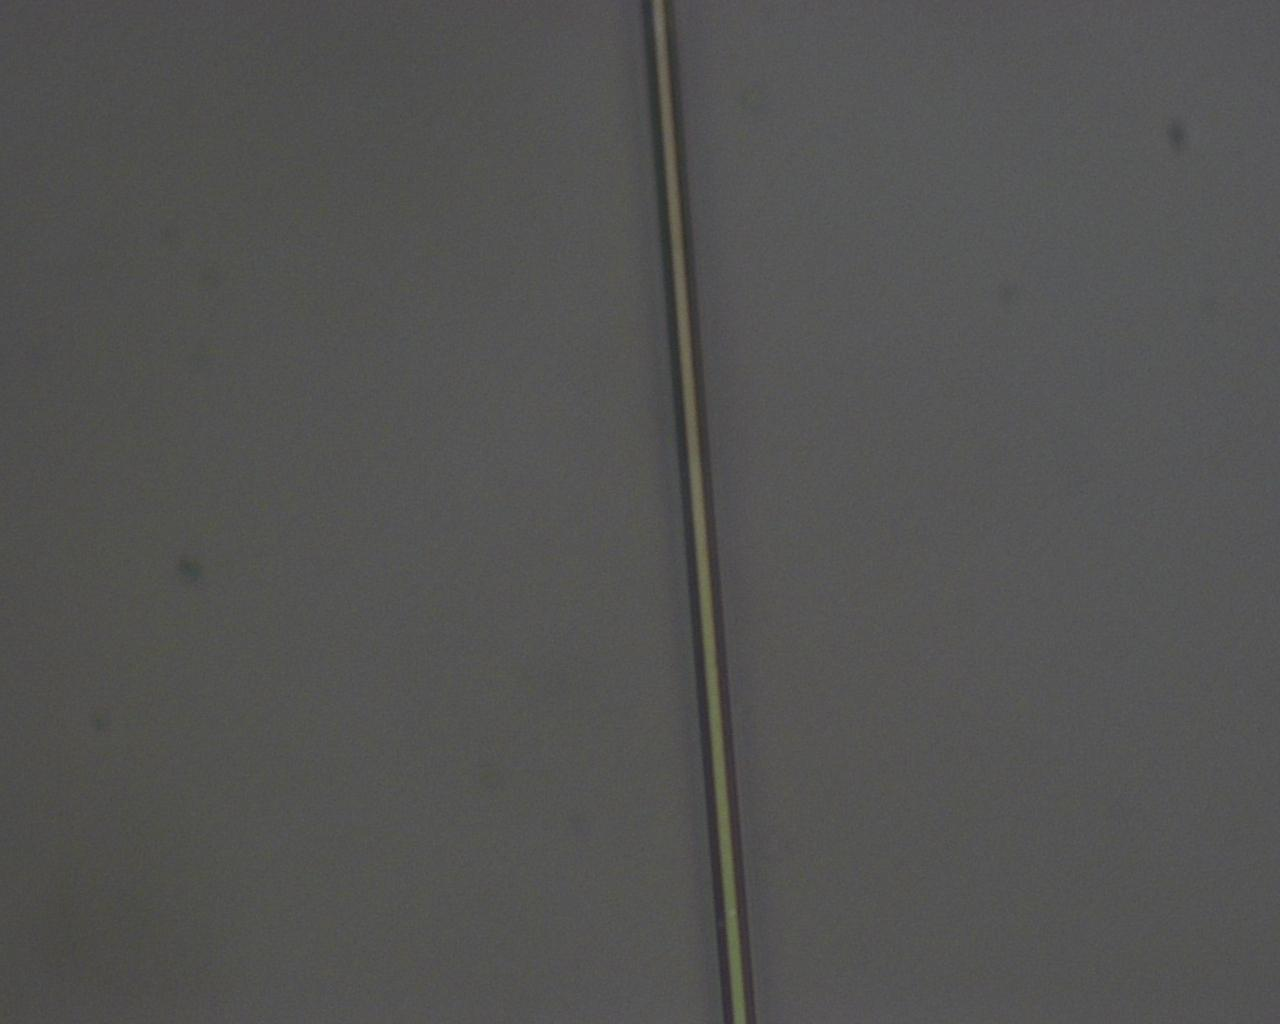fiber: (107, 626, 678, 1024), (1096, 450, 1280, 1024), (898, 183, 1280, 450), (254, 0, 314, 450)
